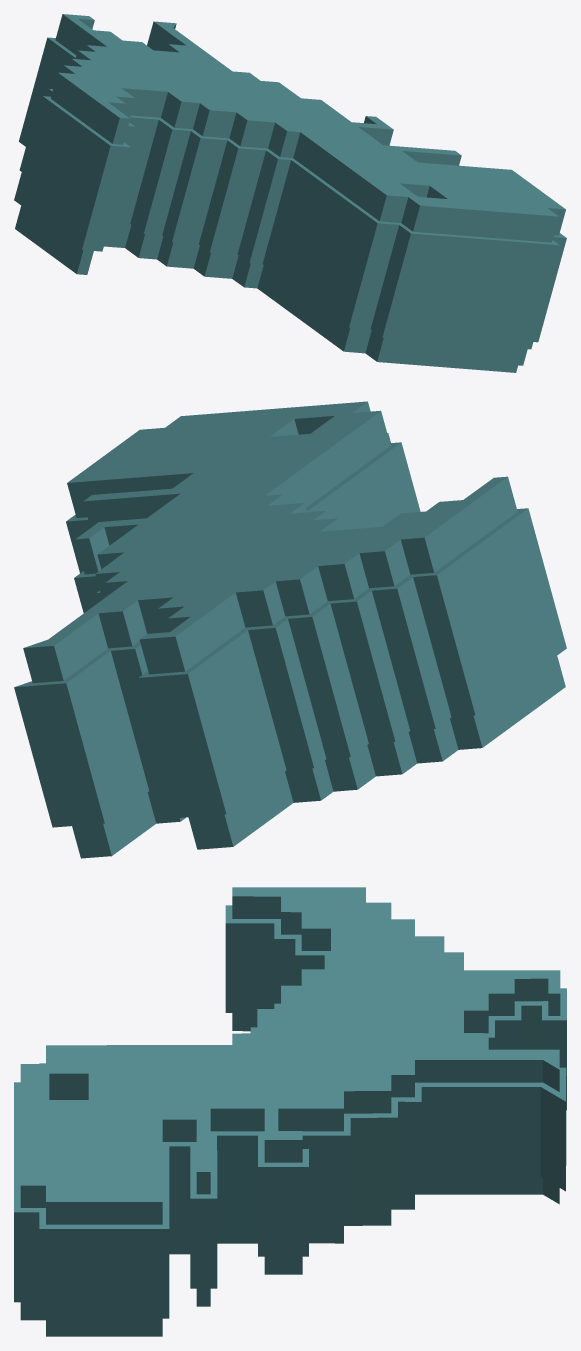
Rendered from dino.glb.
The picture shows the model from 3 angles, top to bottom: view 1: azimuth 30°, elevation 25°; view 2: azimuth 150°, elevation 25°; view 3: azimuth 270°, elevation 25°; orthographic projection. The views are drawn at different scales.
Parts seen in each view (by area): view 1: Dino_Google; view 2: Dino_Google; view 3: Dino_Google.
Boxes of the visible parts, x1,y1,x2,y2 form: Dino_Google: (14, 14, 566, 372); Dino_Google: (14, 401, 566, 858); Dino_Google: (14, 887, 566, 1336).
Bounding box in the file's own units: 1.81 × 1.13 × 2.
